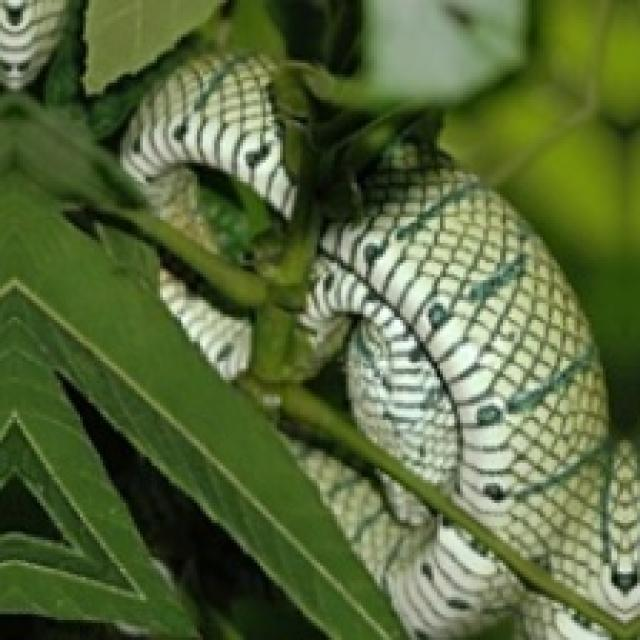north ph temple pitviper: (291, 143, 637, 620), (291, 437, 609, 637), (123, 54, 306, 271), (160, 269, 257, 377)
